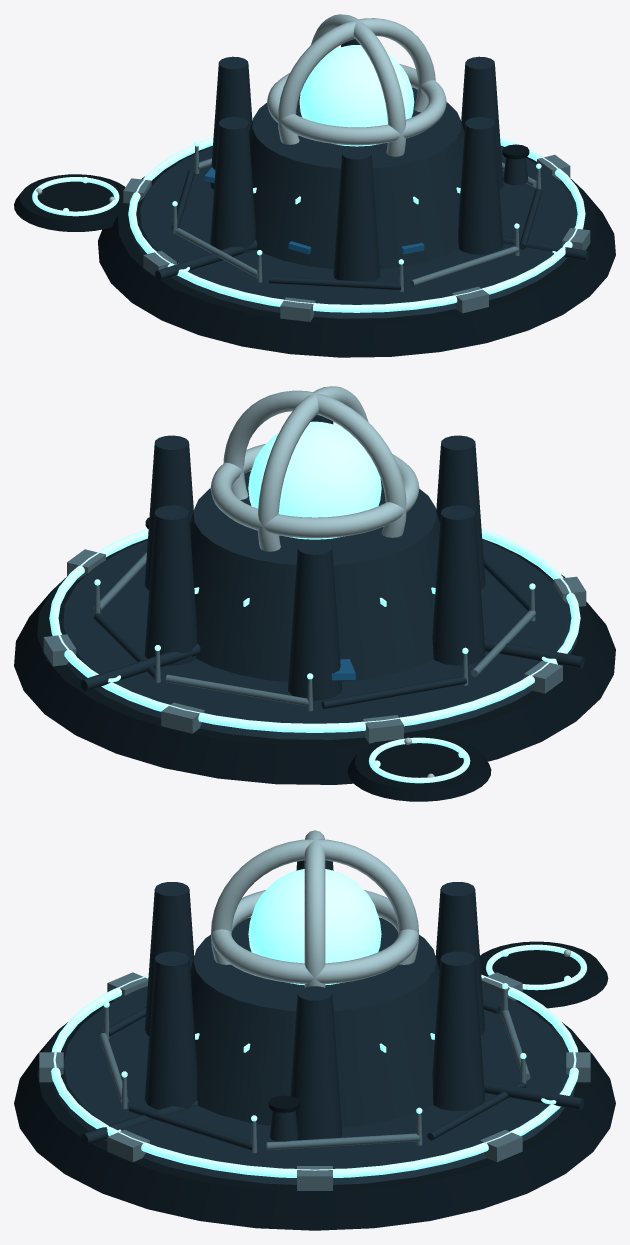
File: fusionReactor-stage1.glb
3 renders of one model, top to bottom at view 1: azimuth 30°, elevation 25°; view 2: azimuth 150°, elevation 25°; view 3: azimuth 270°, elevation 25°, orthographic. The views are drawn at different scales.
Parts seen in each view (by area): view 1: armored-foundation, containment-vault, upper-deck, fusion-core, perimeter-light, coolant-tower-1, coolant-tower-2, coolant-tower-3, landing-pad, containment-ring-x, containment-ring-y, containment-ring-z (+13 smaller); view 2: containment-vault, upper-deck, armored-foundation, fusion-core, perimeter-light, coolant-tower-3, coolant-tower-4, coolant-tower-5, landing-pad, containment-ring-x, containment-ring-y, containment-ring-z (+17 smaller); view 3: armored-foundation, containment-vault, upper-deck, fusion-core, coolant-tower-5, coolant-tower-1, perimeter-light, coolant-tower-0, containment-ring-z, containment-ring-y, landing-pad, coolant-tower-2 (+17 smaller).
Part boxes in pixels (x1,y1,x2,y2): armored-foundation: (98,145,615,357); containment-vault: (249,87,464,268); upper-deck: (131,146,583,318); fusion-core: (299,45,414,146); perimeter-light: (128,137,585,312); coolant-tower-1: (458,117,503,254); coolant-tower-2: (333,147,380,281); coolant-tower-3: (210,117,255,253); landing-pad: (14,174,129,231); containment-ring-x: (278,18,435,144); containment-ring-y: (267,64,446,145); containment-ring-z: (311,14,405,156); containment-vault: (190,471,440,682); upper-deck: (51,539,577,739); armored-foundation: (14,538,615,784); fusion-core: (248,421,381,539); perimeter-light: (49,528,580,732); coolant-tower-3: (432,505,485,665); coolant-tower-4: (288,540,341,700); coolant-tower-5: (144,505,197,665); landing-pad: (347,734,491,801); containment-ring-x: (223,390,406,537); containment-ring-y: (210,443,419,538); containment-ring-z: (258,386,368,551); armored-foundation: (14,1000,615,1230); containment-vault: (190,917,439,1127); upper-deck: (53,986,576,1184); fusion-core: (248,869,381,985); coolant-tower-5: (432,951,485,1110); coolant-tower-1: (144,951,197,1109); perimeter-light: (51,974,578,1177); coolant-tower-0: (290,986,342,1140); containment-ring-z: (211,839,418,964); containment-ring-y: (211,890,418,983); landing-pad: (480,941,608,1008); coolant-tower-2: (144,882,194,1035).
Size of the model in its own units: 8.8 by 4.12 by 8.53.
